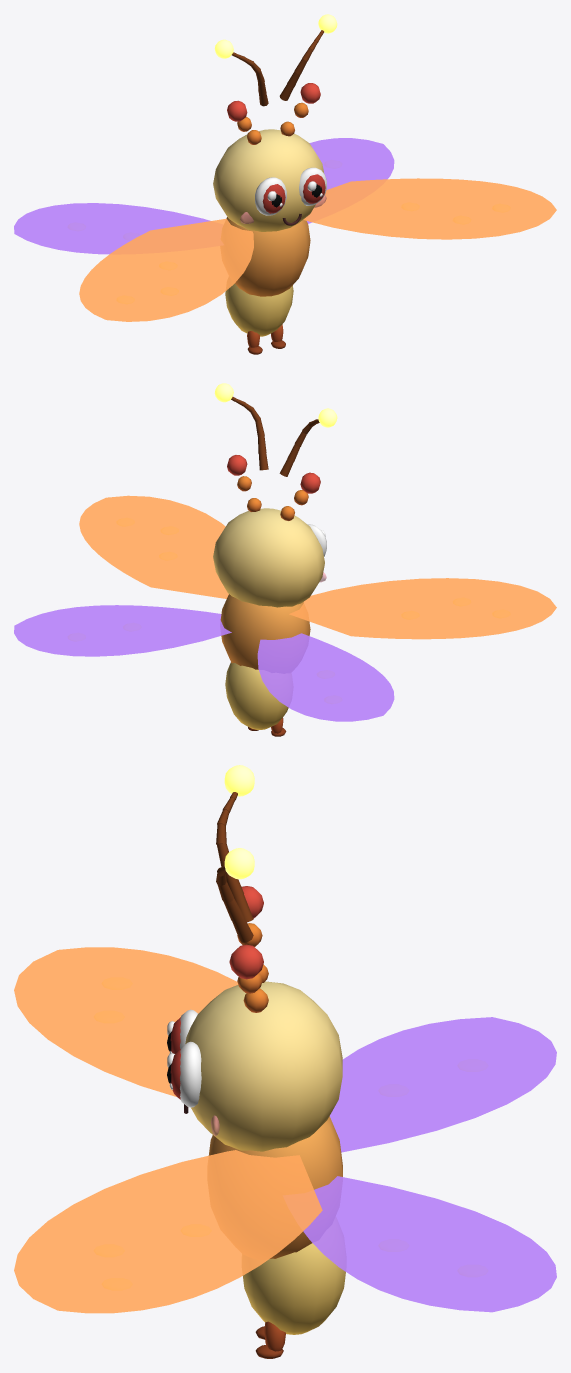
File: krylosha_form2.glb
3 views of the same model, one above another, from view 1: azimuth 30°, elevation 25°; view 2: azimuth 150°, elevation 25°; view 3: azimuth 270°, elevation 25° (orthographic). The views are drawn at different scales.
Parts seen in each view (by area): view 1: krylosha_form2, object 2; view 2: krylosha_form2; view 3: krylosha_form2, object 7.
Part boxes in pixels (x1,y1,x2,y2): krylosha_form2: (14,14,556,354); object 2: (255,177,286,215); krylosha_form2: (14,383,556,736); krylosha_form2: (14,765,556,1358); object 7: (180,1041,201,1107).
Size of the model in its own units: 2.9 by 2 by 1.82.
